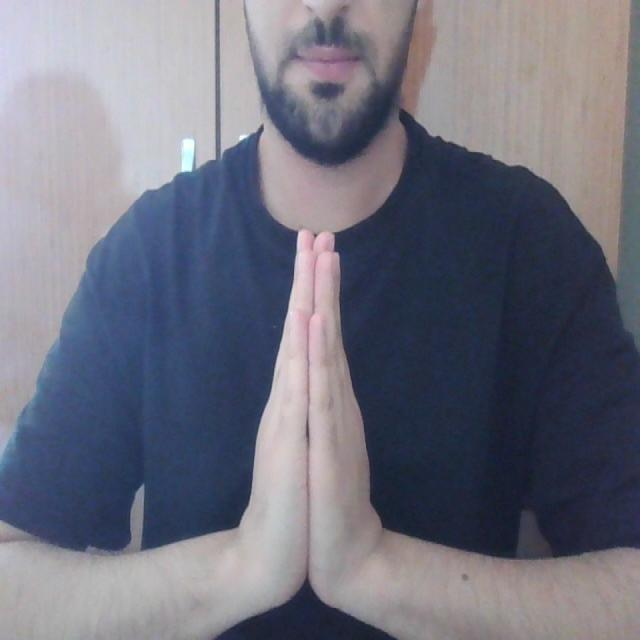Ozur-Dilemek: (235, 216, 392, 640)
